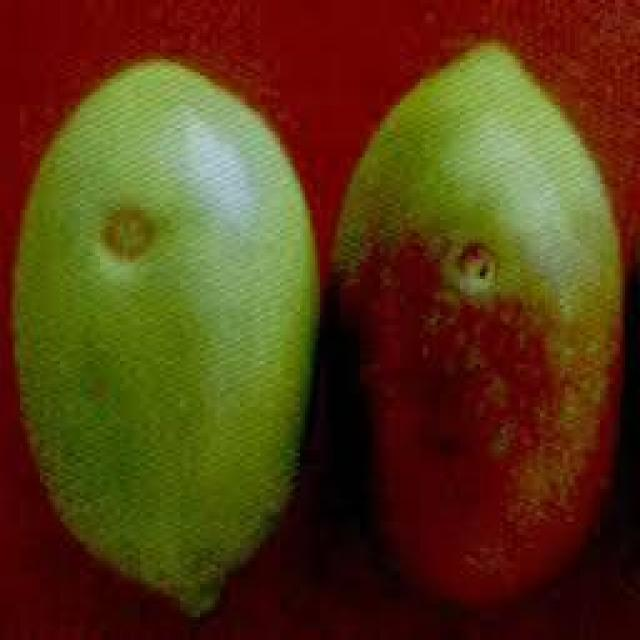Anthracnose: (12, 65, 316, 608), (338, 43, 620, 594)
